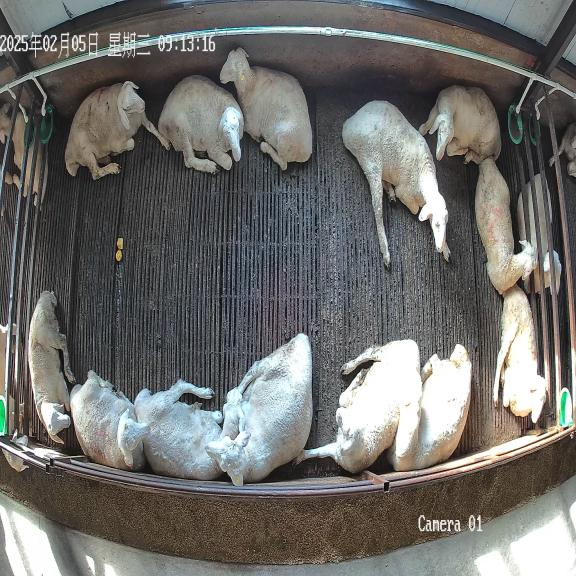lying: (342, 101, 450, 265), (296, 339, 420, 473), (208, 334, 312, 486), (134, 380, 248, 480), (220, 48, 312, 170), (387, 344, 472, 471), (65, 81, 162, 179), (475, 158, 537, 294), (158, 75, 243, 173), (70, 370, 150, 471), (493, 286, 547, 422), (28, 291, 75, 444), (418, 85, 501, 164)
